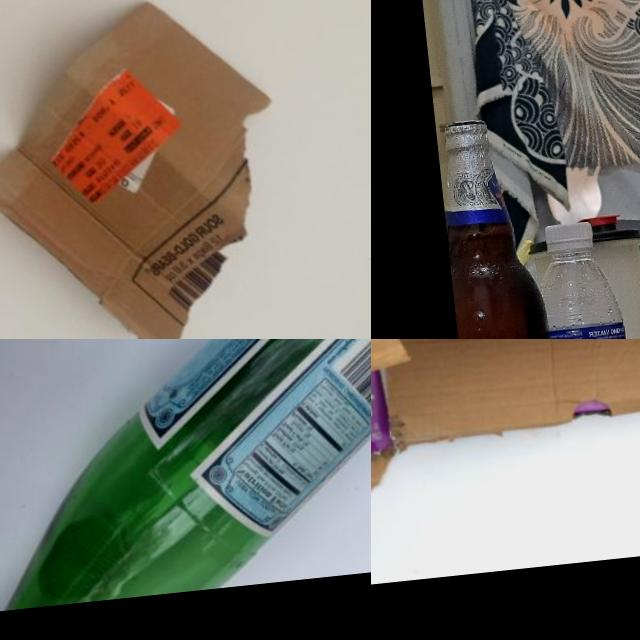garrafa de vidro: (0, 339, 371, 610), (434, 104, 573, 339)
garrafa plástica: (529, 244, 627, 339)
papelão: (0, 0, 293, 339), (371, 339, 640, 465)
tampa plástica: (542, 216, 596, 256)
